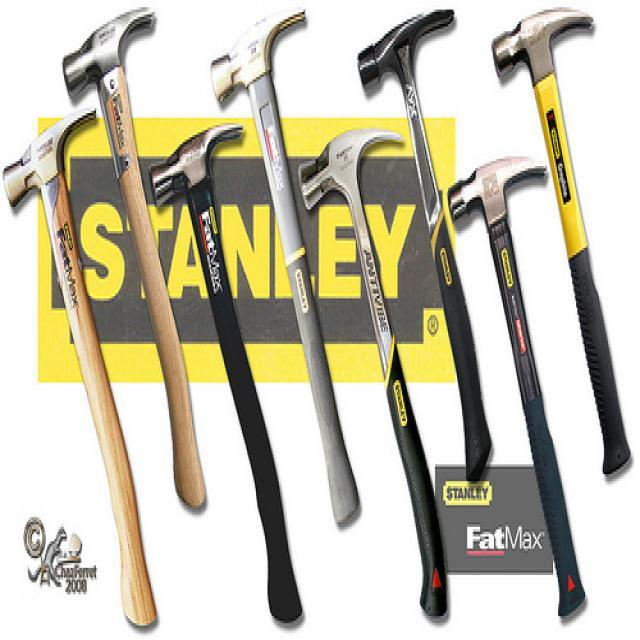hammer: (0, 103, 155, 640), (144, 107, 288, 607), (442, 158, 581, 506), (55, 0, 188, 313), (296, 126, 412, 407), (487, 5, 617, 254), (353, 9, 462, 211), (204, 5, 312, 186)
